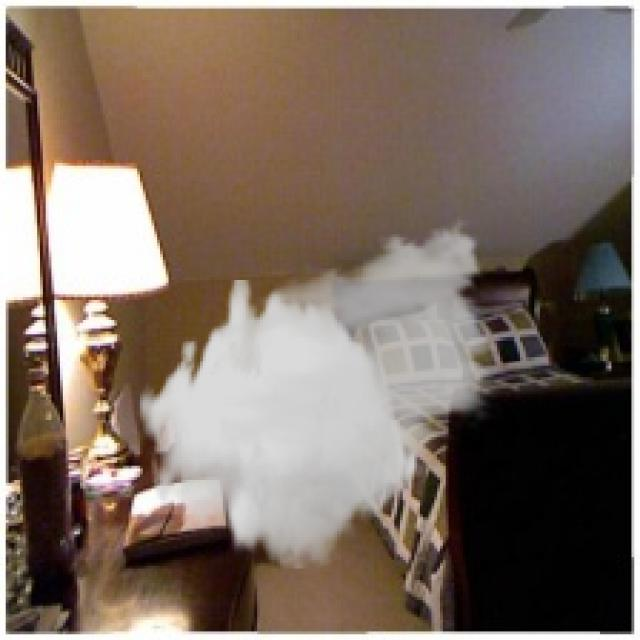smoke: (137, 212, 503, 568)
